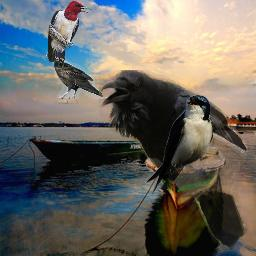Crow: (99, 70, 248, 252), (46, 52, 103, 104)
Swallow: (146, 95, 213, 195)
Woodpecker: (46, 1, 93, 67)
